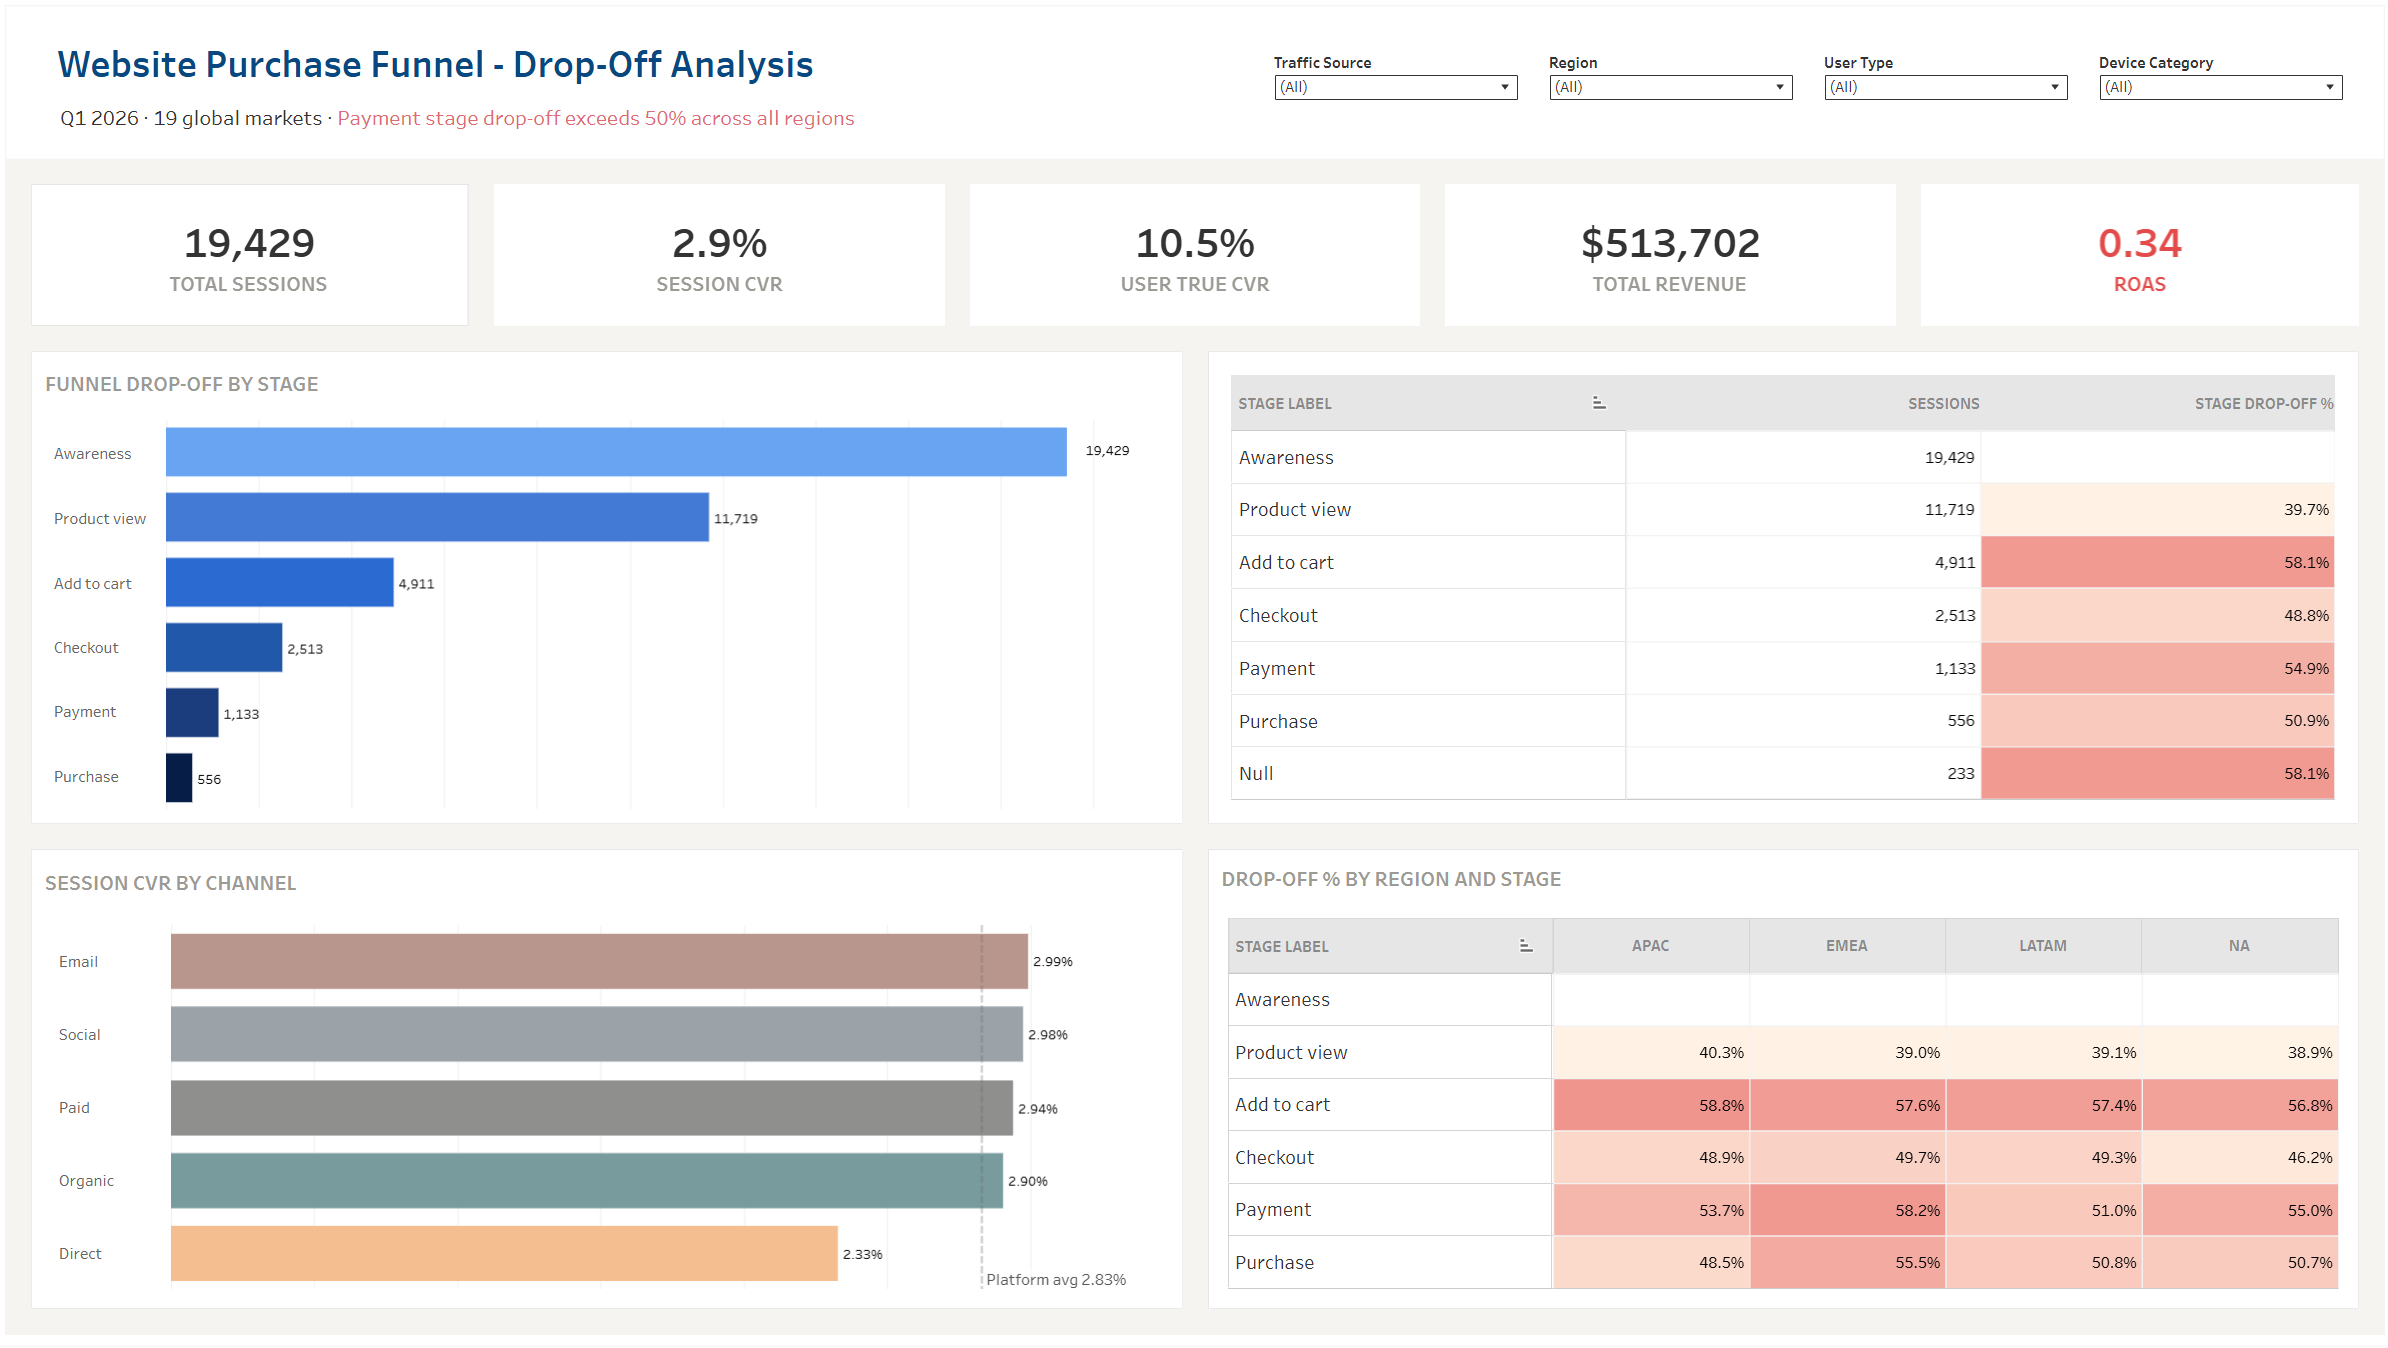

The dashboard page shown, as its layout file describes it:
{"tool":"tableau","page":{"name":"Dashboard 1","canvas":[1920,1080],"ordinal":0},"visuals":[{"type":"text","box":[9,9,1002,122]},{"type":"blank","box":[1019,9,204,32]},{"type":"blank","box":[1239,9,204,32]},{"type":"blank","box":[1459,9,204,32]},{"type":"blank","box":[1679,9,204,32]},{"type":"blank","box":[1891,9,20,122]},{"type":"filter","title":"session cvr by channel","param":"[federated.1pzh17a09qbhtj1cnewkw09l2obj].[none:traffic_source:nk]","box":[1019,41,204,61]},{"type":"filter","title":"funnel drop-off","param":"[federated.1pzh17a09qbhtj1cnewkw09l2obj].[none:region:nk]","box":[1239,41,204,61]},{"type":"filter","title":"funnel drop-off","param":"[federated.1pzh17a09qbhtj1cnewkw09l2obj].[none:user_type:nk]","box":[1459,41,204,61]},{"type":"filter","title":"funnel drop-off","param":"[federated.1pzh17a09qbhtj1cnewkw09l2obj].[none:device_category:nk]","box":[1679,41,204,61]},{"type":"text","box":[52,76,852,42]},{"type":"worksheet","title":"card 1 total sessions","mark":"Text","box":[9,131,380.4,144]},{"type":"worksheet","title":"card 2 session svr","mark":"Text","box":[389.4,131,380.4,144]},{"type":"worksheet","title":"card 3 user true cvr","mark":"Text","box":[769.8,131,380.4,144]},{"type":"worksheet","title":"card 4 total revenue","mark":"Text","box":[1150.2,131,380.4,144]},{"type":"worksheet","title":"card 5 roas","mark":"Text","box":[1530.6,131,380.4,144]},{"type":"text","box":[30,286,919,43]},{"type":"worksheet","title":"stage drop-off details","mark":"Square","rows":["stage_label"],"box":[971,286,919,376]},{"type":"worksheet","title":"funnel drop-off","mark":"Bar","rows":["stage_label"],"cols":["Calculation_0972025664700428"],"box":[30,329,919,332.9]},{"type":"text","box":[30,684,919,45]},{"type":"text","box":[971,684,919,39]},{"type":"worksheet","title":"drop-off % by region and stage","mark":"Square","rows":["stage_label"],"cols":["region"],"box":[971,723,919,326.9]},{"type":"worksheet","title":"session cvr by channel","mark":"Bar","rows":["traffic_source"],"cols":["Calculation_0972025661812740"],"box":[30,729,919,321]}]}

Visuals, with their boxes in screenshot pixels (x1, y1, x2, y2), scaled from the page's 1920x1080 canvas onto the 2388x1348 screenshot:
text: x1=11 y1=11 x2=1257 y2=164
blank: x1=1267 y1=11 x2=1521 y2=51
blank: x1=1541 y1=11 x2=1795 y2=51
blank: x1=1815 y1=11 x2=2068 y2=51
blank: x1=2088 y1=11 x2=2342 y2=51
blank: x1=2352 y1=11 x2=2377 y2=164
"session cvr by channel" filter: x1=1267 y1=51 x2=1521 y2=127
"funnel drop-off" filter: x1=1541 y1=51 x2=1795 y2=127
"funnel drop-off" filter: x1=1815 y1=51 x2=2068 y2=127
"funnel drop-off" filter: x1=2088 y1=51 x2=2342 y2=127
text: x1=65 y1=95 x2=1124 y2=147
"card 1 total sessions" worksheet (Text marks): x1=11 y1=164 x2=484 y2=343
"card 2 session svr" worksheet (Text marks): x1=484 y1=164 x2=957 y2=343
"card 3 user true cvr" worksheet (Text marks): x1=957 y1=164 x2=1431 y2=343
"card 4 total revenue" worksheet (Text marks): x1=1431 y1=164 x2=1904 y2=343
"card 5 roas" worksheet (Text marks): x1=1904 y1=164 x2=2377 y2=343
text: x1=37 y1=357 x2=1180 y2=411
"stage drop-off details" worksheet (Square marks): x1=1208 y1=357 x2=2351 y2=826
"funnel drop-off" worksheet (Bar marks): x1=37 y1=411 x2=1180 y2=826
text: x1=37 y1=854 x2=1180 y2=910
text: x1=1208 y1=854 x2=2351 y2=902
"drop-off % by region and stage" worksheet (Square marks): x1=1208 y1=902 x2=2351 y2=1310
"session cvr by channel" worksheet (Bar marks): x1=37 y1=910 x2=1180 y2=1311
